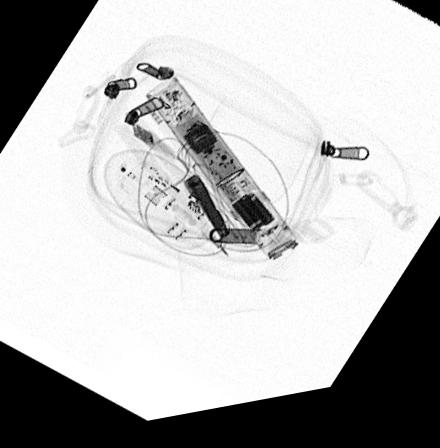Baton: (145, 84, 298, 271)
